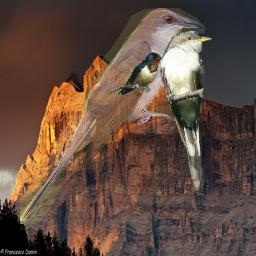Cuckoo: (20, 8, 205, 224), (160, 30, 212, 192)
Swallow: (109, 52, 164, 95)
